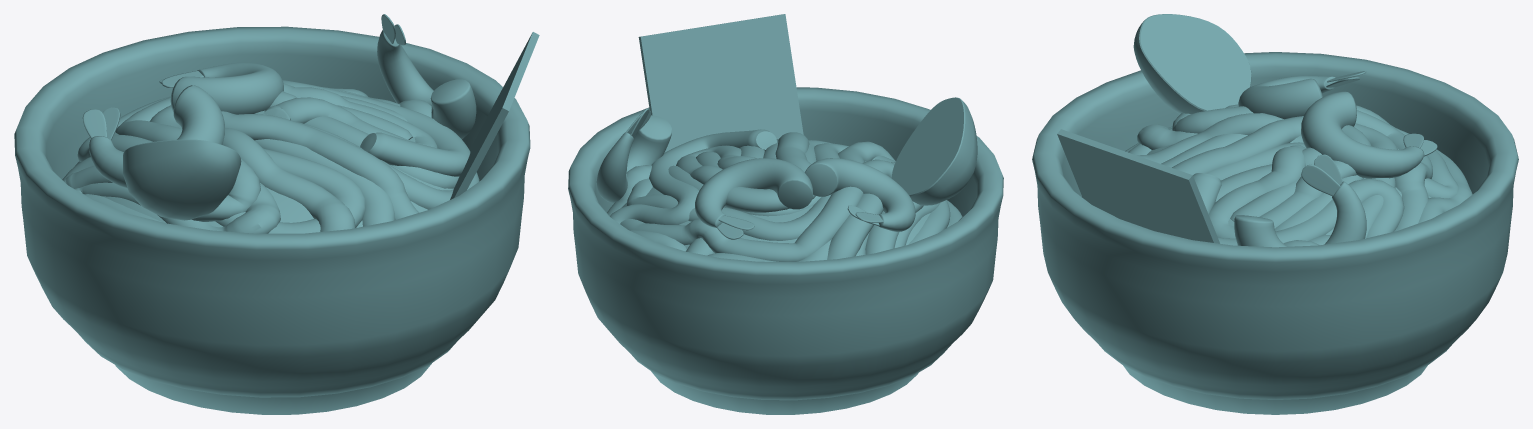
Rendered from SM_RAMEN_2.fbx.
3 renders of one model, left to right at view 1: azimuth 30°, elevation 25°; view 2: azimuth 150°, elevation 25°; view 3: azimuth 270°, elevation 25°, orthographic. The views are drawn at different scales.
Parts seen in each view (by area): view 1: SM_RAMEN_2; view 2: SM_RAMEN_2; view 3: SM_RAMEN_2.
Part boxes in pixels (x1,y1,x2,y2): SM_RAMEN_2: (14,14,539,414); SM_RAMEN_2: (568,14,1003,414); SM_RAMEN_2: (1032,14,1518,414).
Size of the model in its own units: 20.52 by 12.79 by 20.52.
